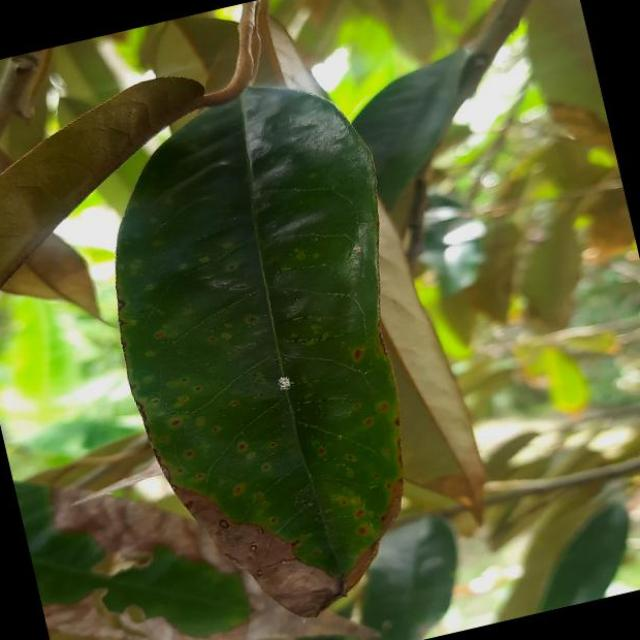Leaf Spot: (65, 58, 479, 640)
